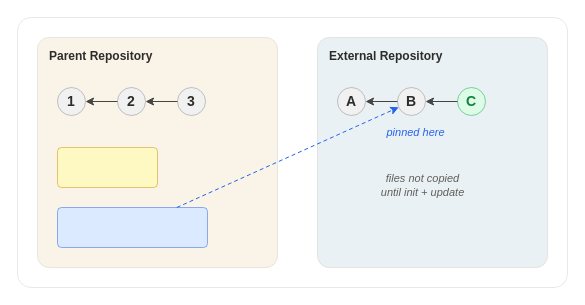
Image size: 585x305. Some labels were removed from this diagram. Here are the shapes that lost their labels. From the top down, the box of each, then its label:
(57, 147, 157, 187): .gitmodules URL + path
(57, 207, 207, 247): libs/lib → abc123 pinned commit
